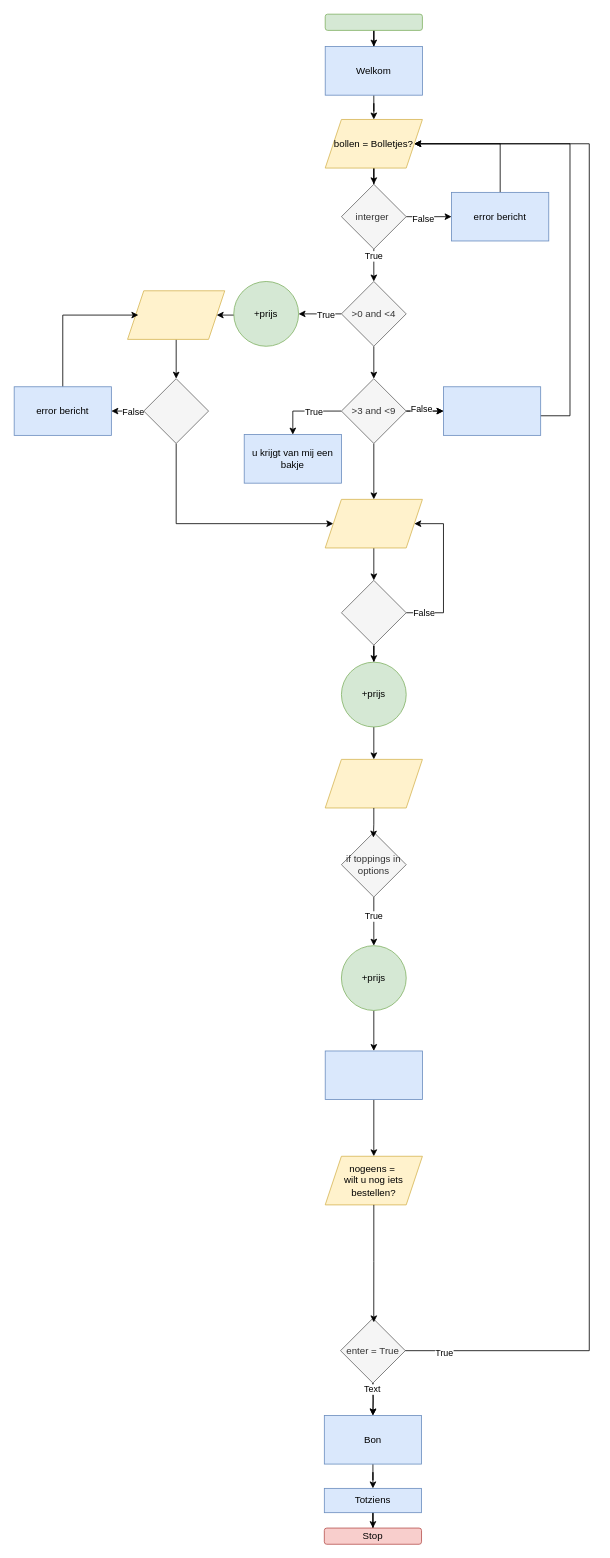
Some shapes in this 610 by 1558 pixel diagram are drawn without their labels. Each missing label, with the centre of its shape:
"for x in range bollen = 0" goes at (x=373, y=612).
"Hoorentje of bakkje" goes at (x=176, y=314).
"hoorentje or bakje" goes at (x=176, y=410).
"Kijk eens uw hoorentje/bakkje met {bollen} bolletjes en {toppings}" goes at (x=373, y=1075).
"Smaak bolletje" goes at (x=373, y=523).
"Start" goes at (x=373, y=21).
"toppings" goes at (x=373, y=783).
"We verkopen niet zulke grootte aantallen" goes at (x=492, y=410).
